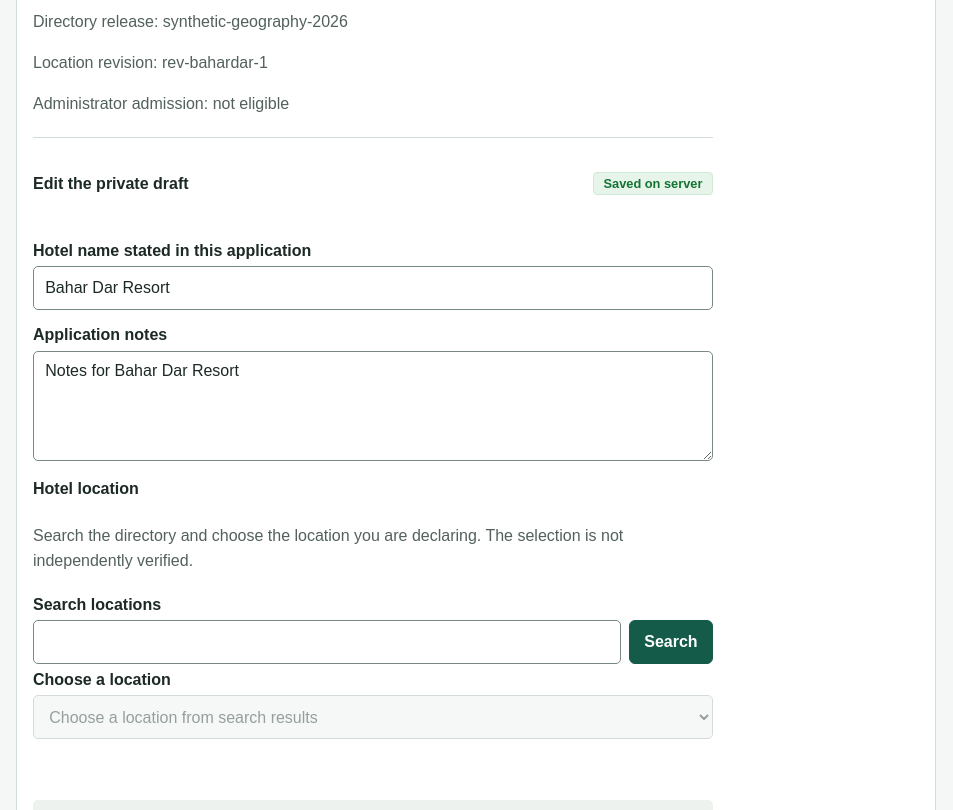
it: HotelApplicantScreen › preserves typed draft changes across search filtering without losing inputs
(page scrolled)
Replace the text in the text box labelled "Application notes" with "Lakefront private suite" at coordinates (373, 406), box [33,351,713,461]
(page scrolled)
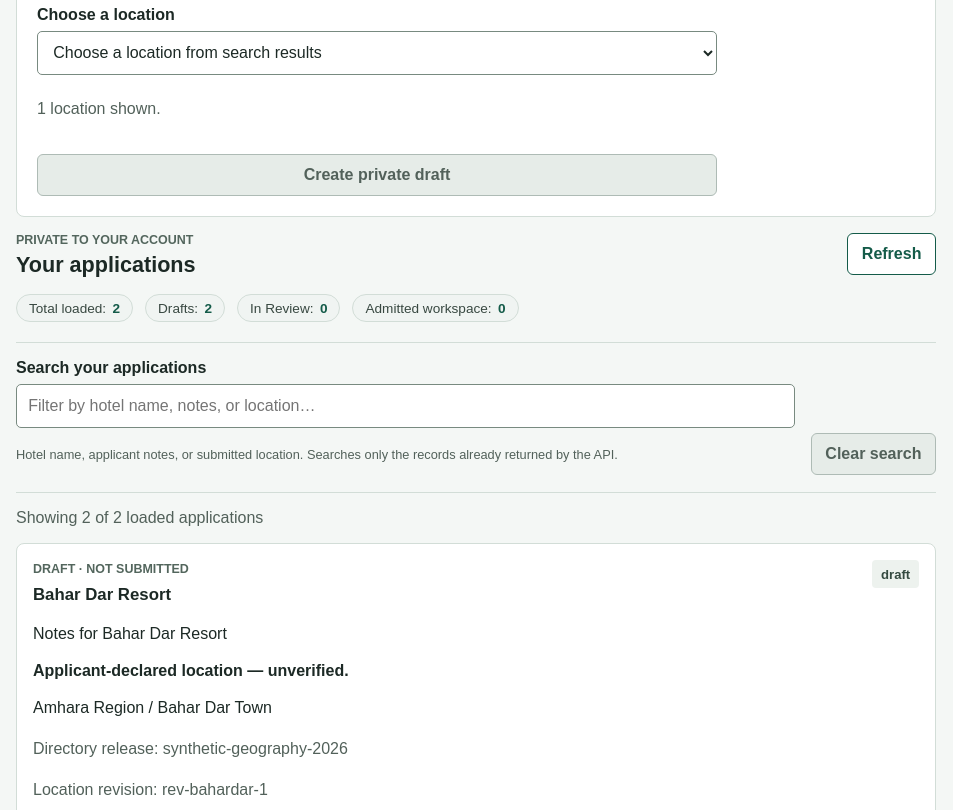
Note: Search for the other hotel (hiding Bahar Dar)
Type "Gondar" into the search field labelled "Search your applications" at coordinates (405, 406), box [16,384,795,428]
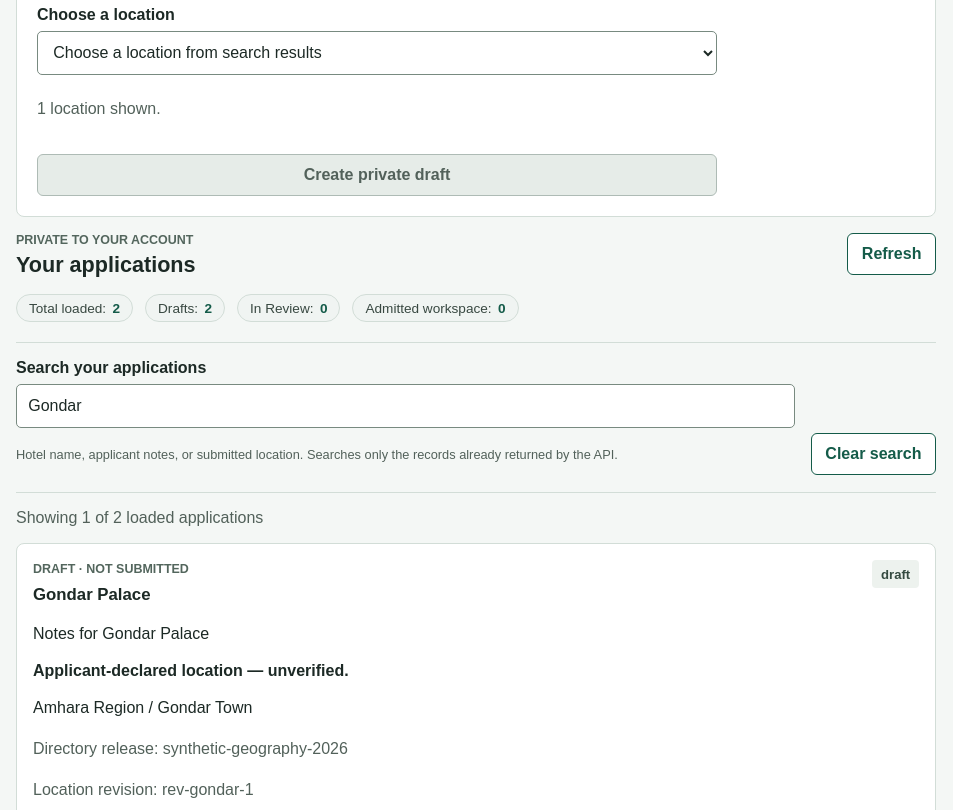
Now the heading "Bahar Dar Resort" is gone
Note: Clear search and verify typing was preserved
Click the button "Clear search" at coordinates (873, 454), box [811,433,936,475]
(page scrolled)
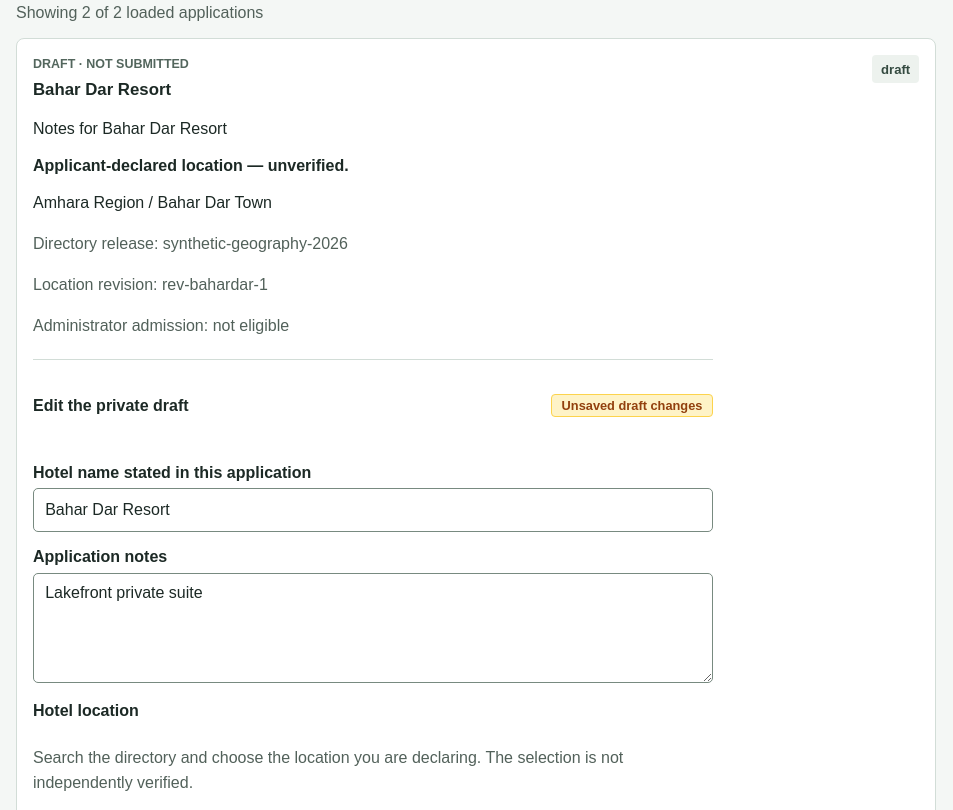
Now the text "Unsaved draft changes" is shown, box [551,394,713,418]
